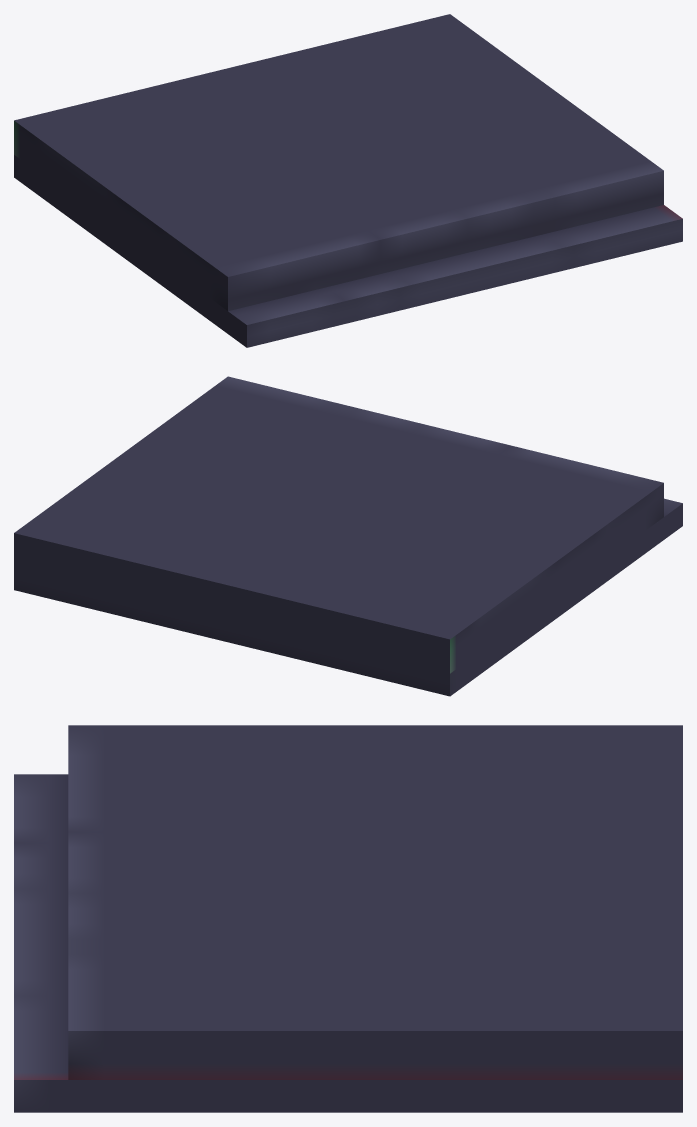
The model's file is PavementTile_M_00.fbx.
3 renders of one model, top to bottom at view 1: azimuth 30°, elevation 25°; view 2: azimuth 150°, elevation 25°; view 3: azimuth 270°, elevation 25°, orthographic. The views are drawn at different scales.
Visible parts, largest first — view 1: PavementTile_M_00; view 2: PavementTile_M_00; view 3: PavementTile_M_00.
Part boxes in pixels (x1,y1,x2,y2): PavementTile_M_00: [14, 14, 682, 347]; PavementTile_M_00: [14, 376, 682, 696]; PavementTile_M_00: [14, 725, 682, 1112].
Size of the model in its own units: 200 by 25 by 185.
